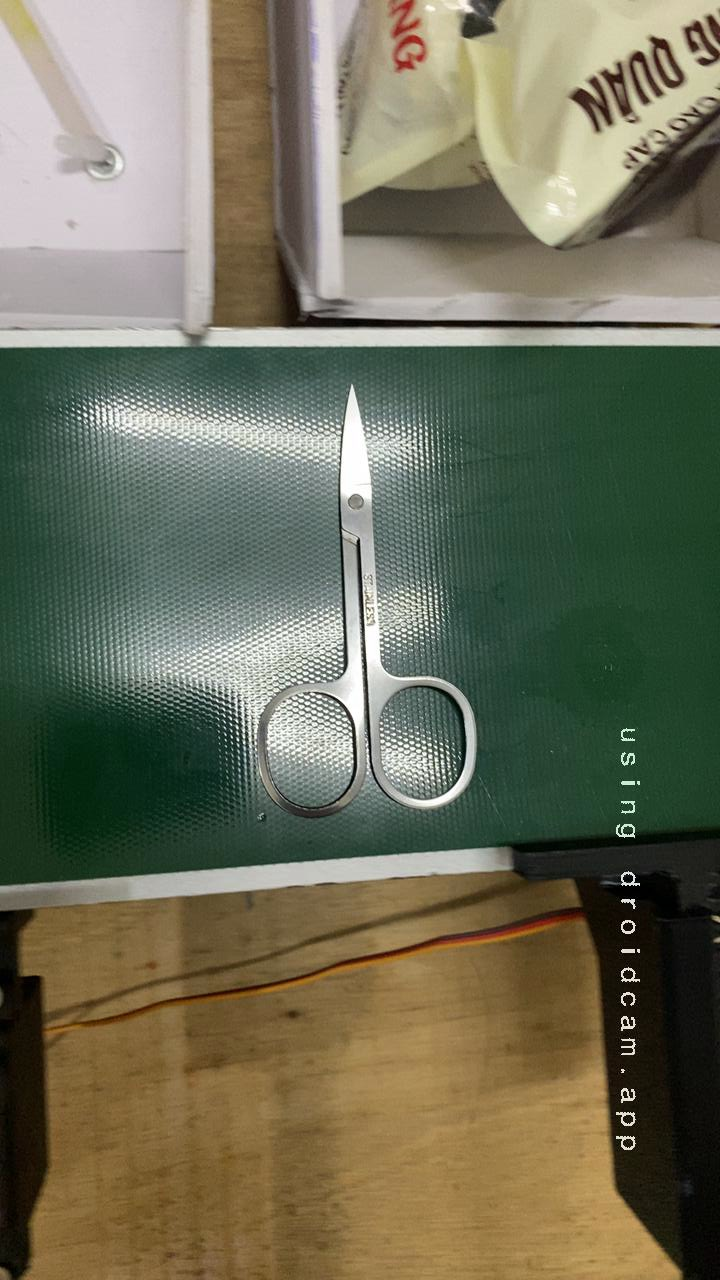scissor: (217, 441, 502, 845)
